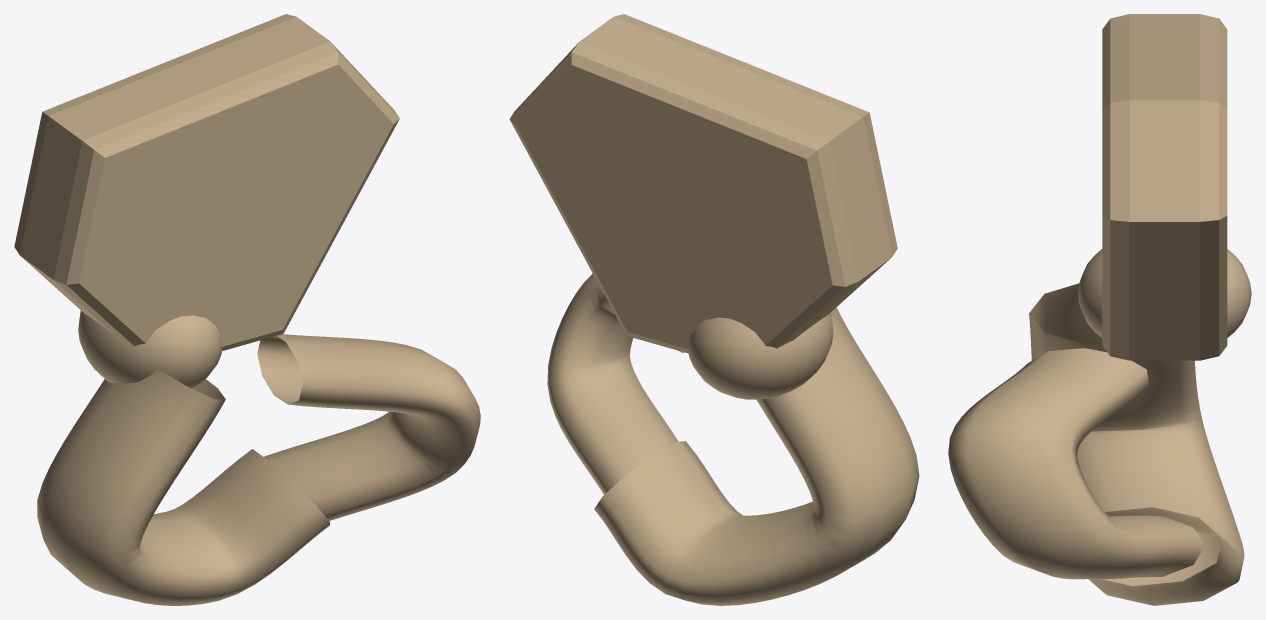
The model's file is right_coxal.glb.
3 views of the same model, side by side, from view 1: azimuth 30°, elevation 25°; view 2: azimuth 150°, elevation 25°; view 3: azimuth 270°, elevation 25° (orthographic). The views are drawn at different scales.
Visible parts, largest first — view 1: right_coxal:ilium, right_coxal:ischium, right_coxal:pubis, right_coxal:acetabular-rim; view 2: right_coxal:ilium, right_coxal:ischium, right_coxal:pubis, right_coxal:acetabular-rim; view 3: right_coxal:ilium, right_coxal:pubis, right_coxal:ischium, right_coxal:acetabular-rim.
Part boxes in pixels (<box>): right_coxal:ilium: <box>14,14,399,350</box>; right_coxal:ischium: <box>37,369,329,605</box>; right_coxal:pubis: <box>257,334,480,520</box>; right_coxal:acetabular-rim: <box>78,311,222,388</box>; right_coxal:ilium: <box>509,14,897,353</box>; right_coxal:ischium: <box>594,307,919,605</box>; right_coxal:pubis: <box>547,273,684,494</box>; right_coxal:acetabular-rim: <box>688,312,833,399</box>; right_coxal:ilium: <box>1102,14,1227,360</box>; right_coxal:pubis: <box>948,348,1204,579</box>; right_coxal:ischium: <box>1029,283,1244,605</box>; right_coxal:acetabular-rim: <box>1078,249,1251,337</box>.
Bounding box in the file's own units: 0.279 × 0.3825 × 0.189.
